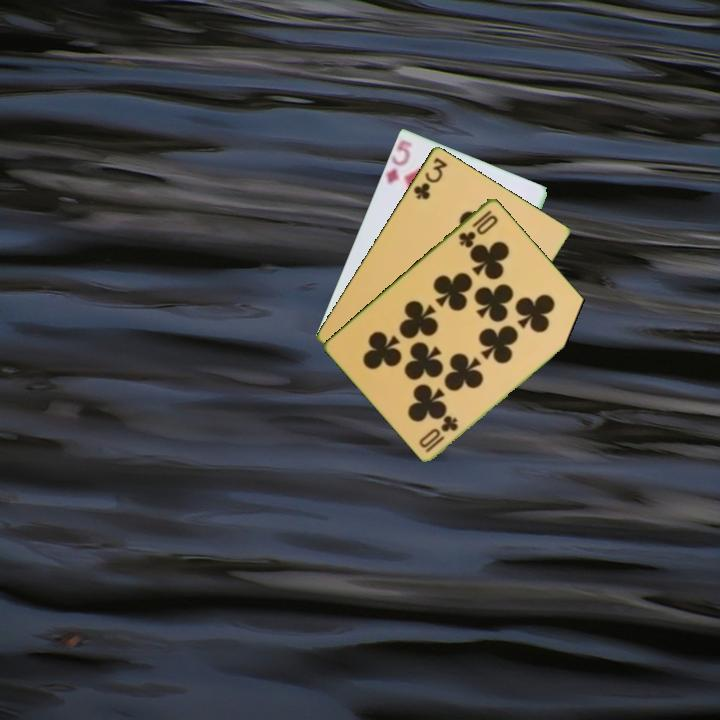10c: (455, 206, 501, 251), (416, 412, 461, 455)
3c: (410, 153, 450, 202)
5d: (382, 139, 413, 187)
